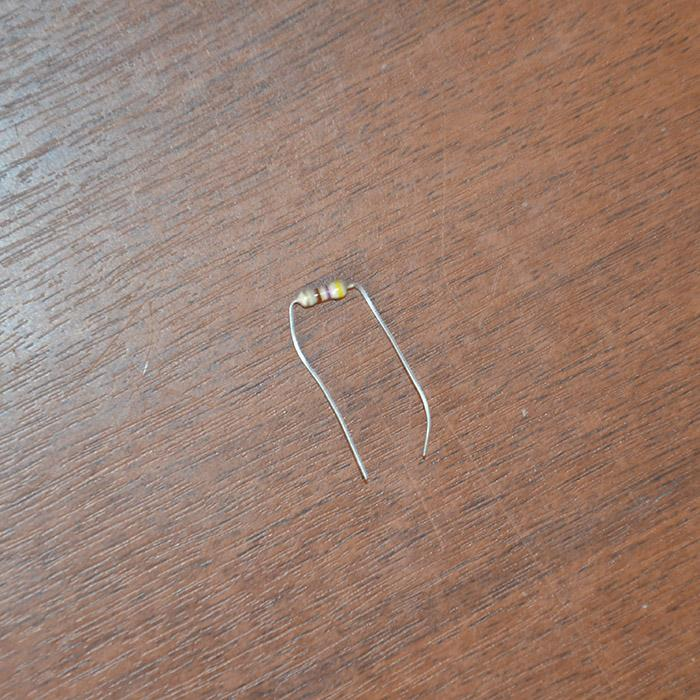resistor: (295, 279, 347, 307)
